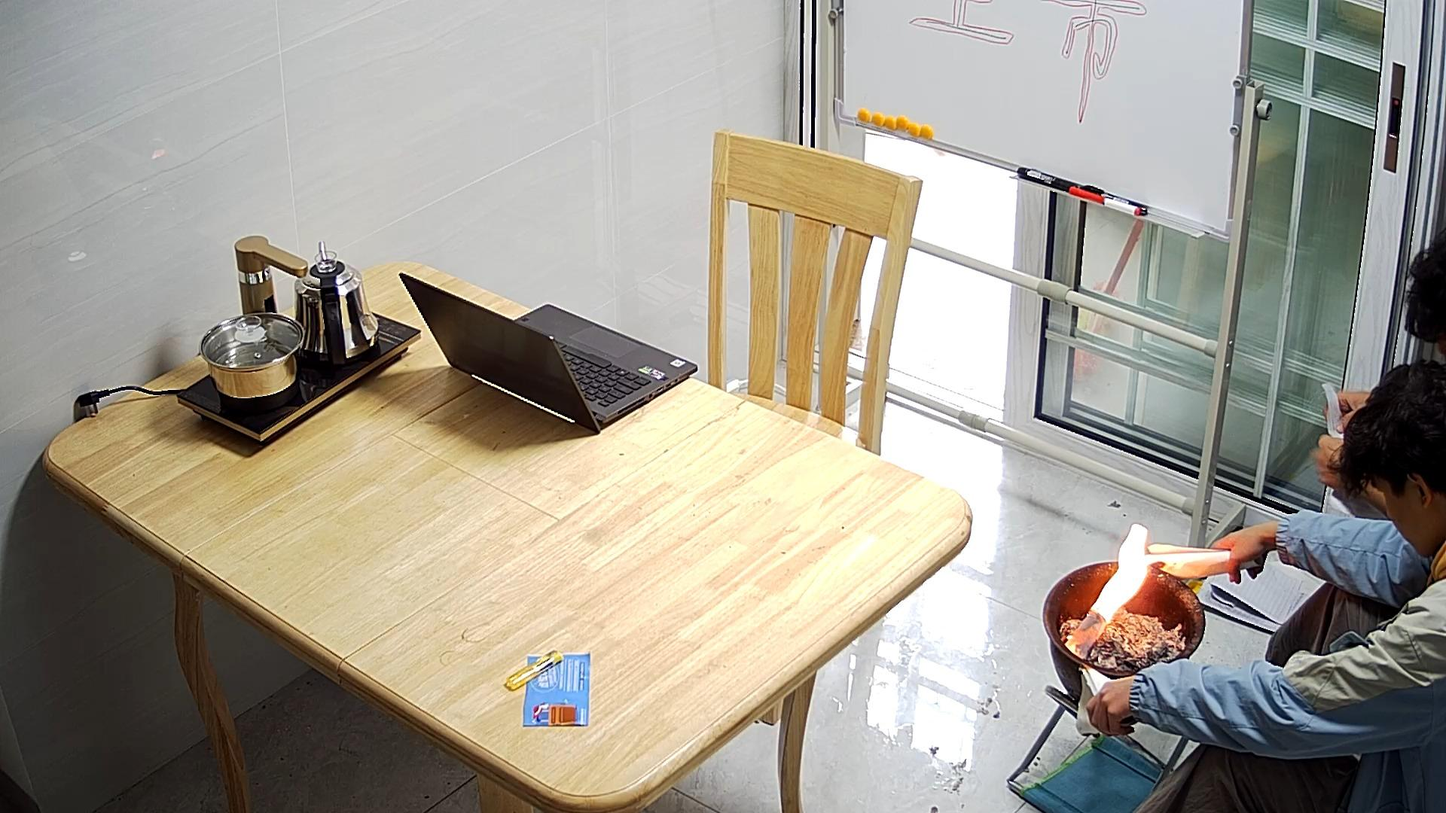fire: (1066, 524, 1153, 657)
